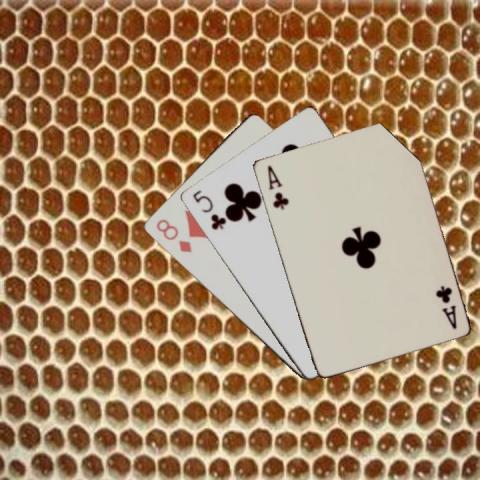5c: (189, 187, 226, 231)
8d: (152, 216, 192, 255)
Ac: (264, 162, 289, 211), (433, 282, 458, 331)
